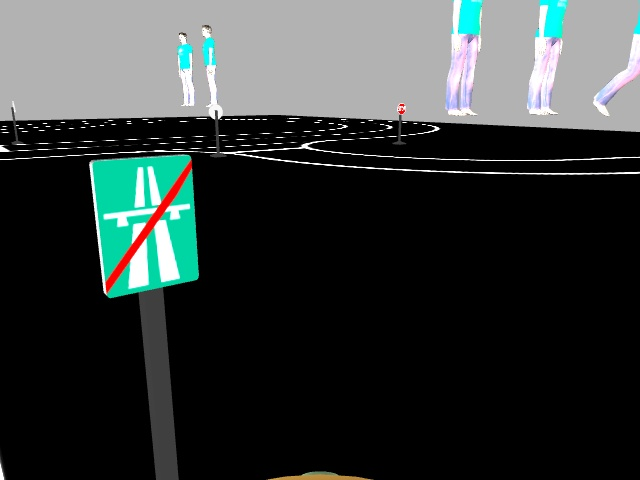HighwayExit: (95, 154, 198, 296)
